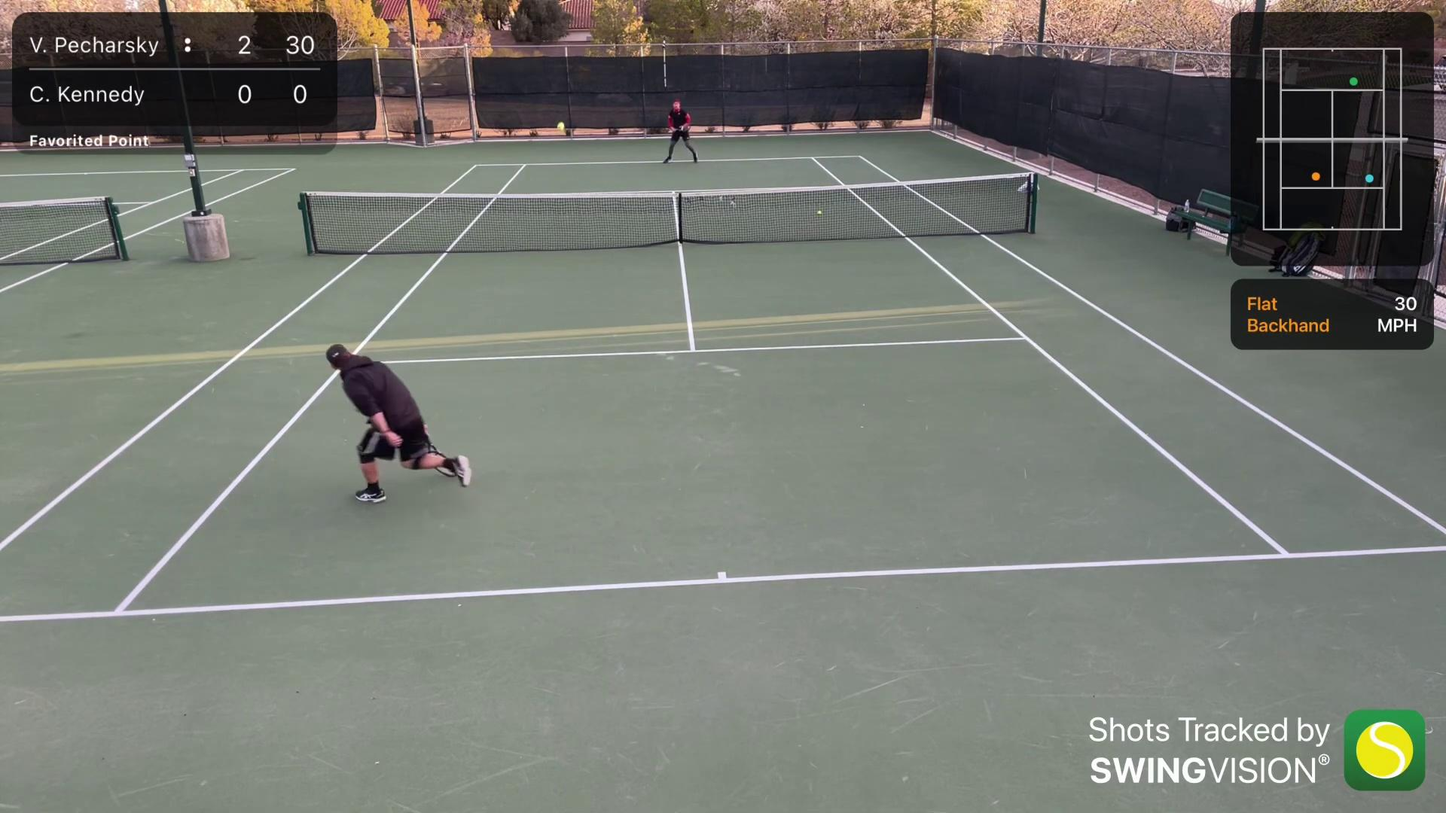ball: (555, 121, 567, 131), (817, 209, 823, 216)
